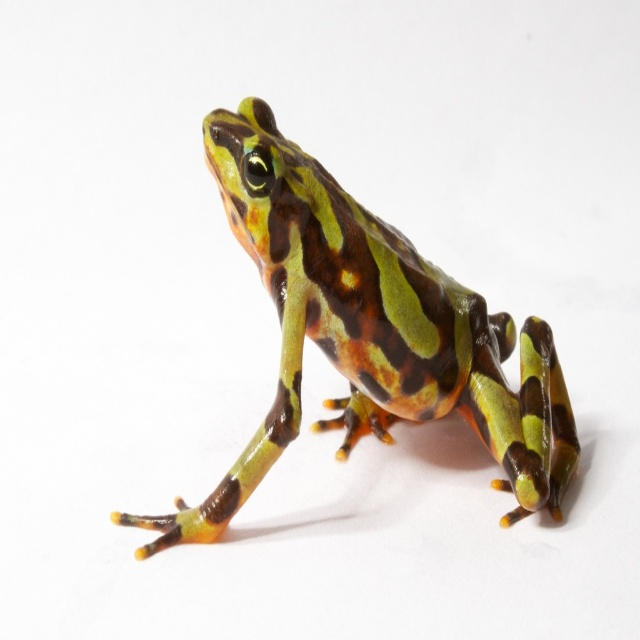Frog: (109, 94, 582, 560)
